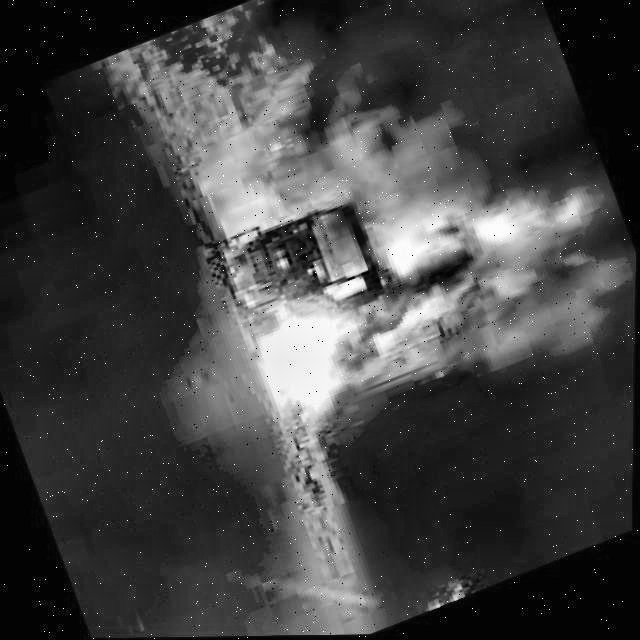Fire: (231, 228, 437, 444)
Smoke: (318, 3, 640, 396)
